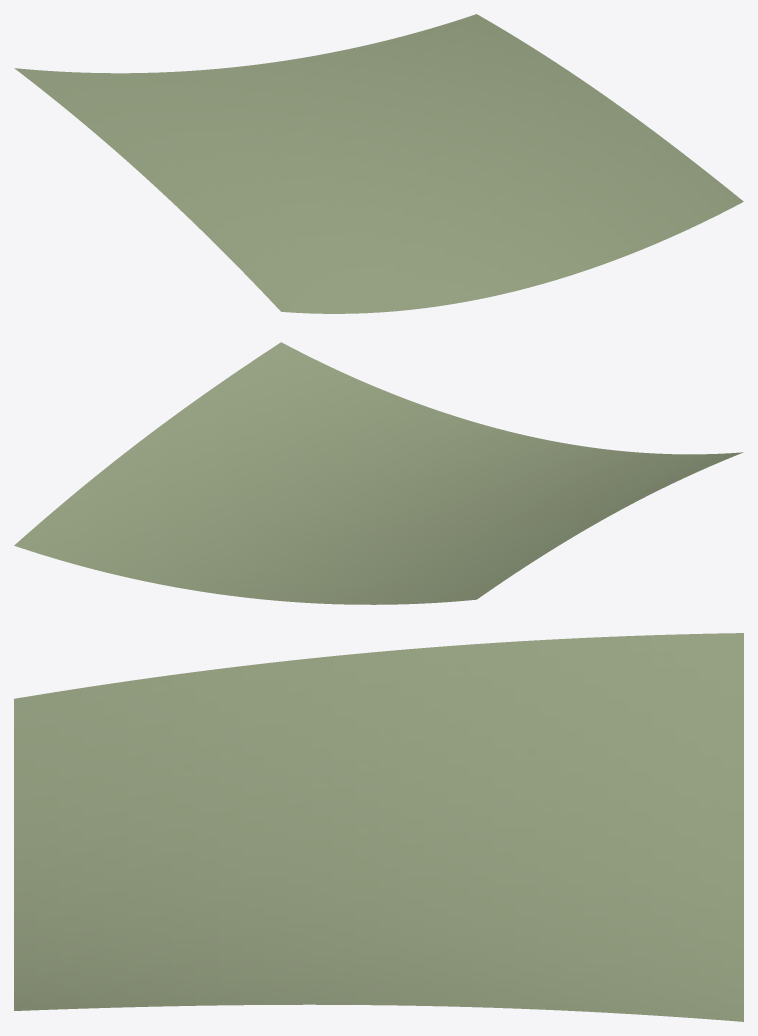
File: expanse-24-6.glb
The picture shows the model from 3 angles, top to bottom: view 1: azimuth 30°, elevation 25°; view 2: azimuth 150°, elevation 25°; view 3: azimuth 270°, elevation 25°; orthographic projection. The views are drawn at different scales.
Visible parts, largest first — view 1: expanse-24-6; view 2: expanse-24-6; view 3: expanse-24-6.
Boxes of the visible parts, x1,y1,x2,y2 form: expanse-24-6: (14,14,743,313); expanse-24-6: (14,342,743,604); expanse-24-6: (14,633,743,1021).
Size of the model in its own units: 256 by 44.77 by 256.
